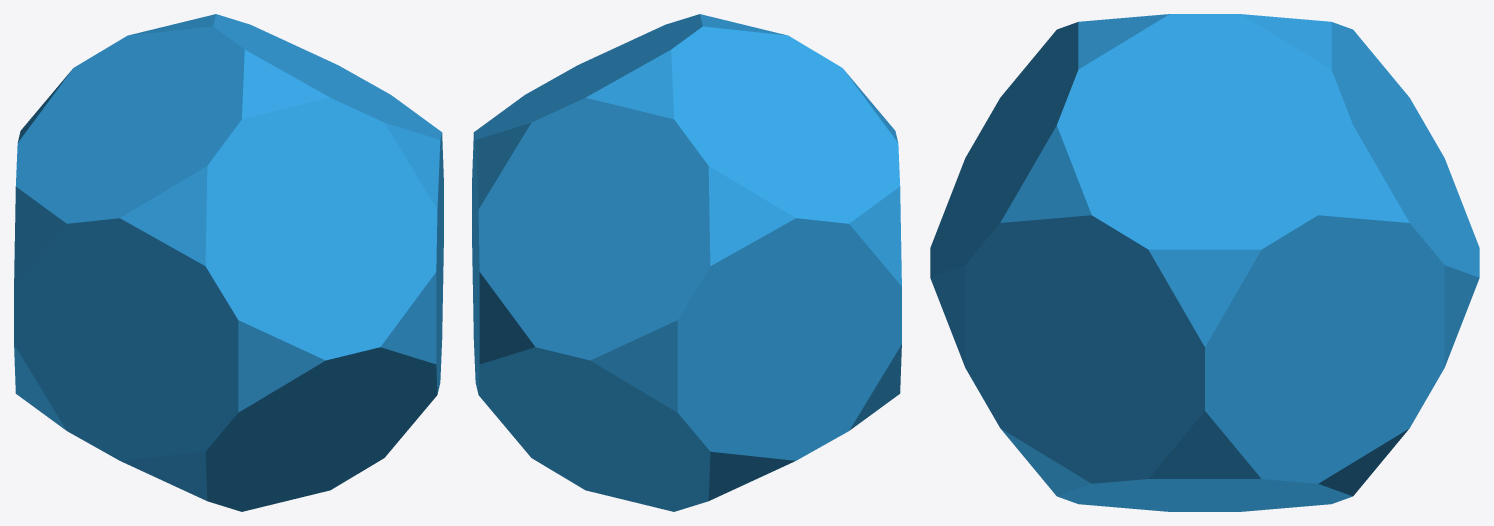
The model's file is truncateddodecahedron.gltf.
The picture shows the model from 3 angles, left to right: view 1: azimuth 30°, elevation 25°; view 2: azimuth 150°, elevation 25°; view 3: azimuth 270°, elevation 25°; orthographic projection. The views are drawn at different scales.
Parts seen in each view (by area): view 1: Solid.002; view 2: Solid.002; view 3: Solid.002.
Boxes of the visible parts, bbox=[...] form: Solid.002: bbox=[14, 14, 443, 511]; Solid.002: bbox=[472, 14, 901, 511]; Solid.002: bbox=[930, 14, 1479, 511].
Size of the model in its own units: 1.87 by 1.87 by 1.87.
